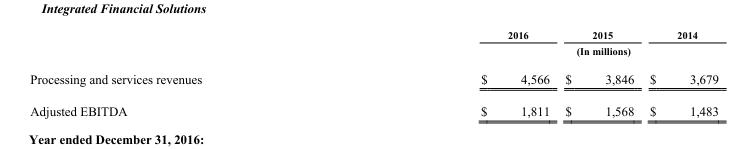table: (29, 28, 718, 117)
table column: (29, 28, 340, 117), (340, 28, 556, 117), (556, 28, 641, 117), (641, 28, 718, 117)
table column header: (29, 28, 718, 63)
table row: (29, 63, 718, 94), (29, 94, 718, 117), (29, 42, 718, 63), (29, 28, 718, 42)
table spanning cell: (340, 42, 718, 63)
